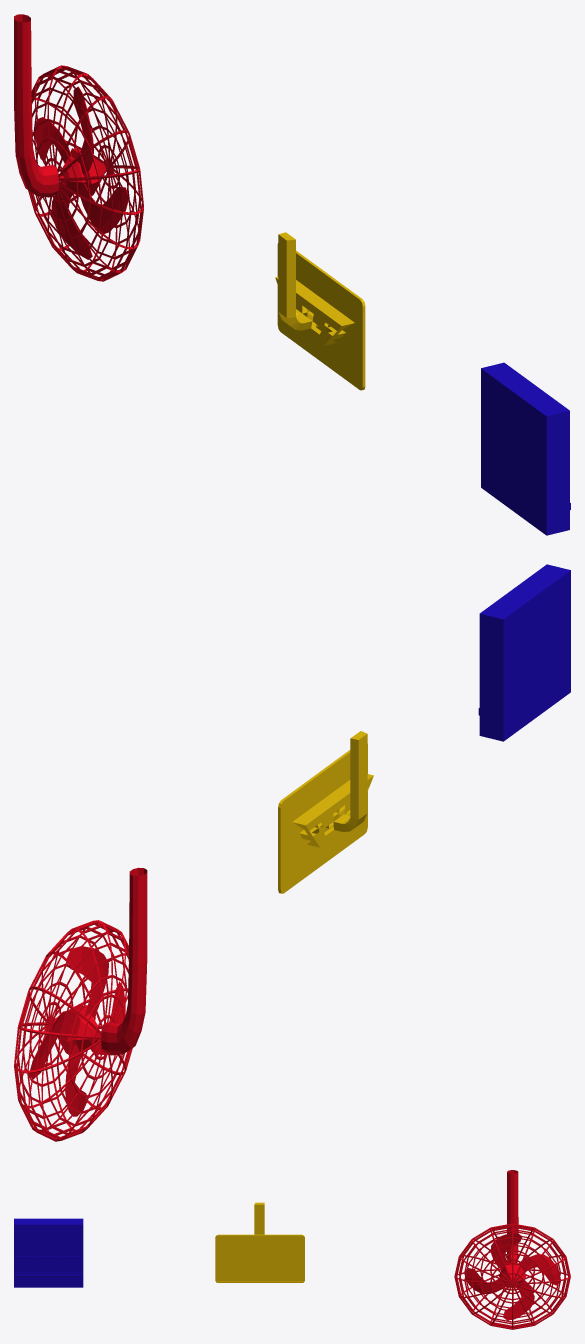
File: caositapas para el subte.fbx
3 renders of one model, top to bottom at view 1: azimuth 30°, elevation 25°; view 2: azimuth 150°, elevation 25°; view 3: azimuth 270°, elevation 25°, orthographic. The views are drawn at different scales.
Visible parts, largest first — view 1: pantalla gigante de leds, cobertor, tele, Palo, aspas, tele sosten, centro; view 2: pantalla gigante de leds, cobertor, tele, Palo, tele sosten, aspas, centro; view 3: cobertor, pantalla gigante de leds, tele, aspas, Palo, tele sosten, centro.
Part boxes in pixels (left/top/right/bottom): pantalla gigante de leds: left=481, top=362, right=570, bottom=535; cobertor: left=28, top=65, right=143, bottom=281; tele: left=277, top=243, right=365, bottom=390; Palo: left=14, top=14, right=59, bottom=197; aspas: left=35, top=86, right=128, bottom=259; tele sosten: left=275, top=232, right=354, bottom=345; centro: left=59, top=148, right=106, bottom=196; pantalla gigante de leds: left=478, top=564, right=570, bottom=741; cobertor: left=14, top=920, right=132, bottom=1141; tele: left=278, top=744, right=367, bottom=893; Palo: left=101, top=867, right=147, bottom=1055; tele sosten: left=292, top=731, right=373, bottom=847; aspas: left=29, top=946, right=125, bottom=1116; centro: left=57, top=1005, right=100, bottom=1055; cobertor: left=454, top=1223, right=570, bottom=1329; pantalla gigante de leds: left=14, top=1218, right=83, bottom=1287; tele: left=215, top=1234, right=304, bottom=1282; aspas: left=464, top=1233, right=560, bottom=1320; Palo: left=507, top=1170, right=518, bottom=1264; tele sosten: left=254, top=1202, right=264, bottom=1234; centro: left=498, top=1264, right=526, bottom=1287.
Bounding box in the file's own units: 564 × 1541 × 5469.
